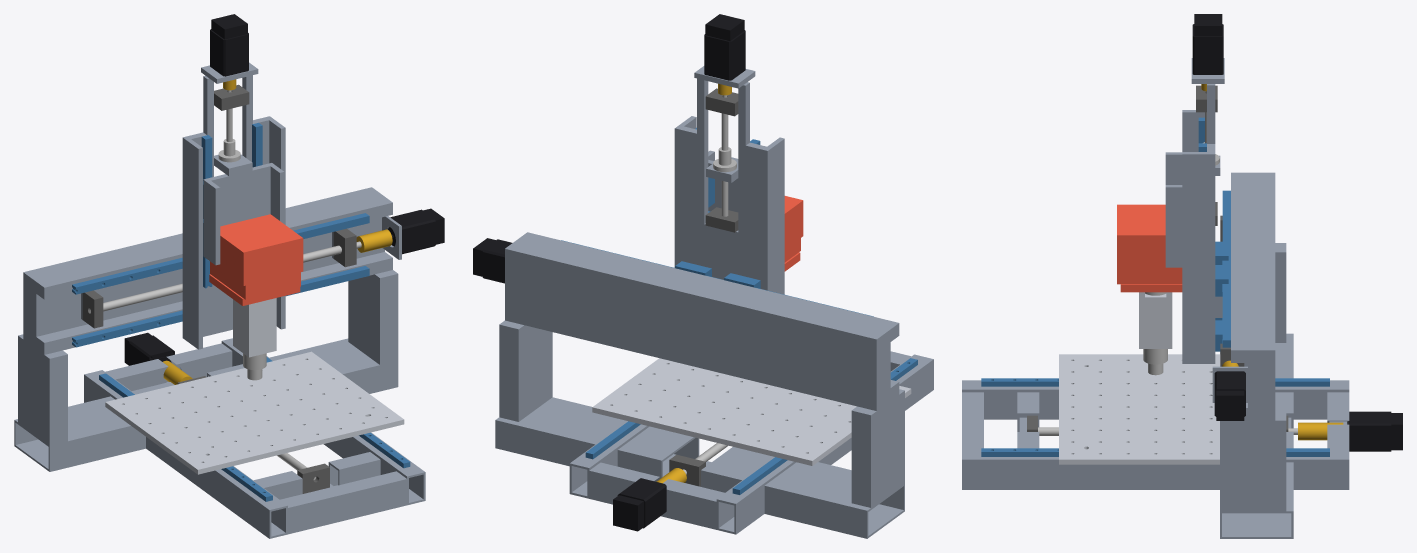
File: C3c_center.glb
3 renders of one model, left to right at view 1: azimuth 30°, elevation 25°; view 2: azimuth 150°, elevation 25°; view 3: azimuth 270°, elevation 25°, orthographic. The views are drawn at different scales.
Parts seen in each view (by area): view 1: table, beam, x_carriage, frame_cross_rear, tooldock_master, z_slide, upright_L, frame_cross_front, frame_longeron_L, upright_R, frame_cross_end, head_mount (+18 smaller); view 2: beam, frame_cross_rear, table, x_carriage, upright_L, upright_R, frame_longeron_L, frame_cross_end, z_motor, y_motor, frame_longeron_R, x_motor (+9 smaller); view 3: table, beam, frame_longeron_R, x_carriage, upright_R, tooldock_master, frame_longeron_L, frame_cross_rear, y_motor, z_slide, z_motor, head_mount (+11 smaller).
Part boxes in pixels (<box>): table: <box>105,351,404,474</box>; beam: <box>23,187,392,354</box>; x_carriage: <box>182,75,285,349</box>; frame_cross_rear: <box>14,338,398,471</box>; tooldock_master: <box>210,214,303,299</box>; z_slide: <box>203,163,284,265</box>; upright_L: <box>18,334,67,445</box>; frame_cross_front: <box>280,471,406,534</box>; frame_longeron_L: <box>84,370,287,538</box>; upright_R: <box>348,270,398,364</box>; frame_cross_end: <box>105,343,232,391</box>; head_mount: <box>233,298,276,357</box>; beam: <box>505,232,899,410</box>; frame_cross_rear: <box>495,397,904,538</box>; table: <box>592,358,911,465</box>; x_carriage: <box>674,78,784,294</box>; upright_L: <box>851,389,904,507</box>; upright_R: <box>499,320,552,421</box>; frame_longeron_L: <box>716,354,933,534</box>; frame_cross_end: <box>589,462,724,529</box>; z_motor: <box>704,14,745,80</box>; y_motor: <box>613,478,666,531</box>; frame_longeron_R: <box>569,421,649,498</box>; x_motor: <box>473,238,512,283</box>; table: <box>1059,354,1220,464</box>; beam: <box>1231,172,1275,420</box>; frame_longeron_R: <box>962,450,1349,489</box>; x_carriage: <box>1182,84,1215,363</box>; upright_R: <box>1220,411,1286,511</box>; tooldock_master: <box>1117,204,1182,284</box>; frame_longeron_L: <box>962,380,1349,419</box>; frame_cross_rear: <box>1220,333,1293,538</box>; y_motor: <box>1348,411,1402,451</box>; z_slide: <box>1165,152,1182,267</box>; z_motor: <box>1192,14,1223,74</box>; head_mount: <box>1139,292,1172,348</box>.
Size of the model in its own units: 857 by 858 by 797.
